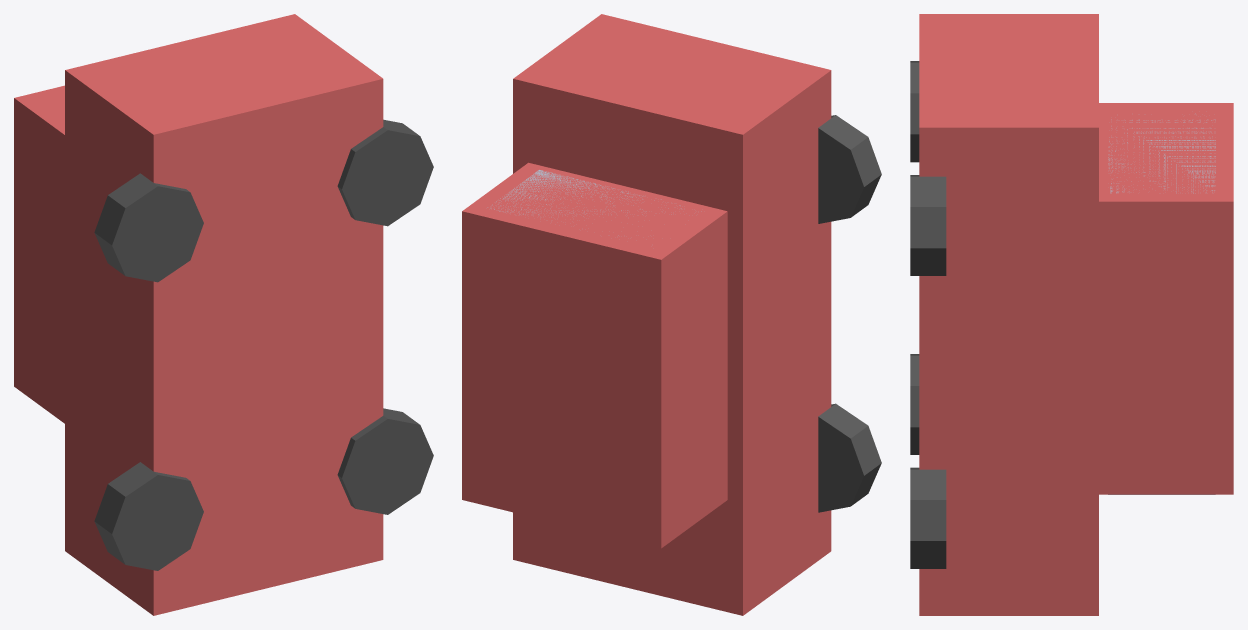
The model's file is Car_Red.fbx.
3 views of the same model, side by side, from view 1: azimuth 30°, elevation 25°; view 2: azimuth 150°, elevation 25°; view 3: azimuth 270°, elevation 25° (orthographic).
Visible parts, largest first — view 1: Car_Red_BodyLow, Car_Red_BodyTop, Car_Red_Wheel_3, Car_Red_Wheel_1, Car_Red_Wheel_0, Car_Red_Wheel_2; view 2: Car_Red_BodyLow, Car_Red_BodyTop, Car_Red_Wheel_1, Car_Red_Wheel_3, Car_Red_RearWindow; view 3: Car_Red_BodyLow, Car_Red_BodyTop, Car_Red_Wheel_0, Car_Red_Wheel_2, Car_Red_RearWindow, Car_Red_Wheel_3, Car_Red_Wheel_1.
Part boxes in pixels (left/top/right/bottom): Car_Red_BodyLow: left=65, top=14, right=383, bottom=615; Car_Red_BodyTop: left=14, top=85, right=64, bottom=423; Car_Red_Wheel_3: left=94, top=173, right=203, bottom=282; Car_Red_Wheel_1: left=94, top=462, right=203, bottom=570; Car_Red_Wheel_0: left=337, top=408, right=433, bottom=514; Car_Red_Wheel_2: left=337, top=119, right=433, bottom=226; Car_Red_BodyLow: left=513, top=14, right=831, bottom=615; Car_Red_BodyTop: left=462, top=162, right=727, bottom=548; Car_Red_Wheel_1: left=818, top=403, right=881, bottom=512; Car_Red_Wheel_3: left=818, top=115, right=881, bottom=223; Car_Red_RearWindow: left=487, top=170, right=701, bottom=235; Car_Red_BodyLow: left=919, top=14, right=1098, bottom=615; Car_Red_BodyTop: left=1099, top=103, right=1233, bottom=494; Car_Red_Wheel_0: left=910, top=467, right=946, bottom=568; Car_Red_Wheel_2: left=910, top=175, right=946, bottom=275; Car_Red_RearWindow: left=1108, top=113, right=1215, bottom=193; Car_Red_Wheel_3: left=910, top=61, right=919, bottom=162; Car_Red_Wheel_1: left=910, top=354, right=919, bottom=454.
Bounding box in the file's own units: 0.42 × 0.62 × 0.36.
